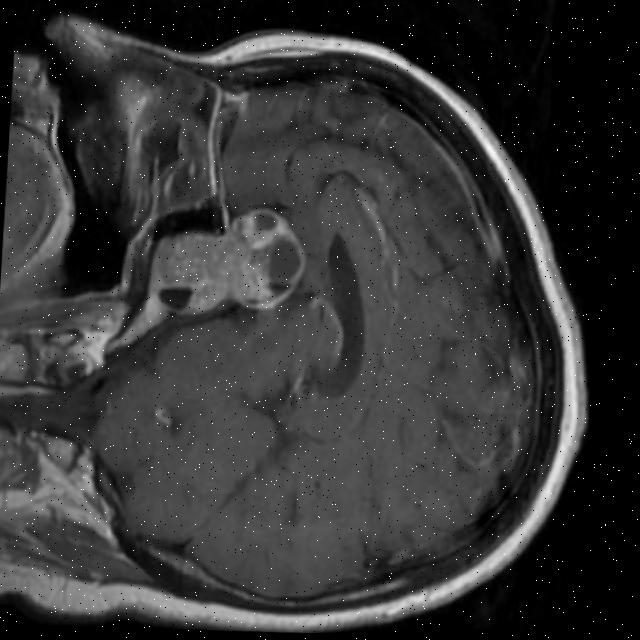Pituitary: (147, 202, 310, 323)
